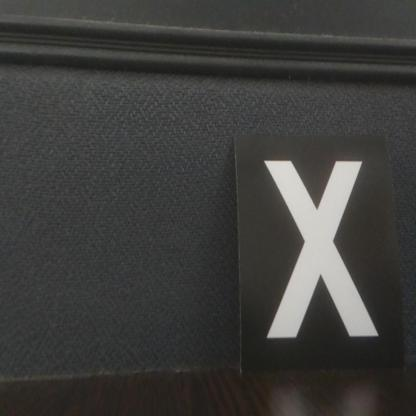x: (234, 132, 407, 370)
